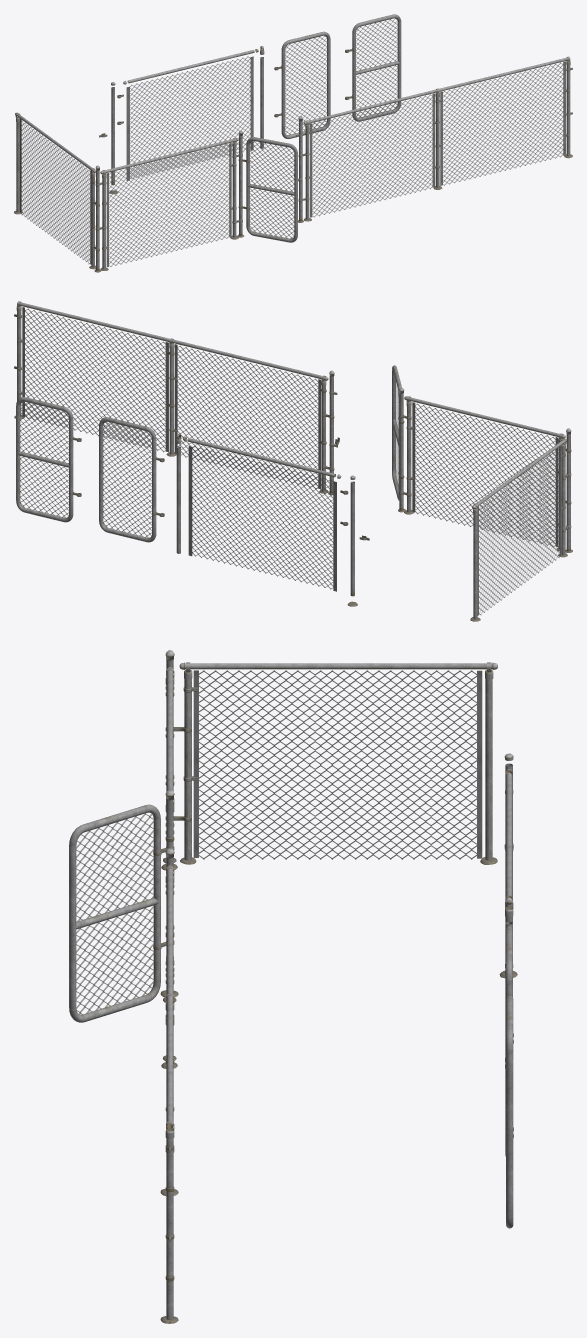
Rendered from modular-chain-link-fence.glb.
3 renders of one model, top to bottom at view 1: azimuth 30°, elevation 25°; view 2: azimuth 150°, elevation 25°; view 3: azimuth 270°, elevation 25°, orthographic. The views are drawn at different scales.
Parts seen in each view (by area): view 1: 1094; view 2: 1094; view 3: 1094.
Boxes of the visible parts, x1,y1,x2,y2 form: 1094: [14, 14, 572, 272]; 1094: [14, 301, 572, 621]; 1094: [69, 650, 517, 1323].
Size of the model in its own units: 9.46 by 2.14 by 3.84.
Materials: 1 (1 with a texture image).
